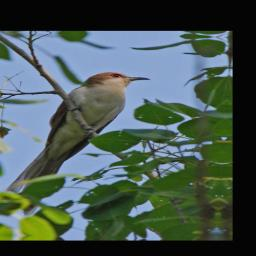Cuckoo: (0, 68, 152, 219)
